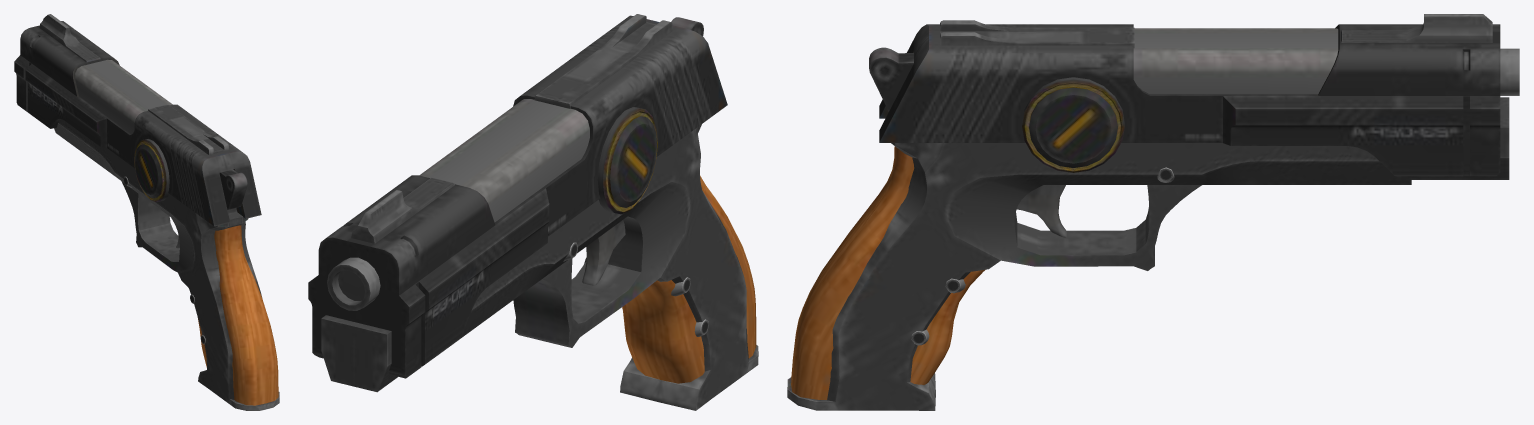
File: plasma.glb
3 views of the same model, side by side, from view 1: azimuth 30°, elevation 25°; view 2: azimuth 150°, elevation 25°; view 3: azimuth 270°, elevation 25° (orthographic). The views are drawn at different scales.
Parts seen in each view (by area): view 1: Gun_Pistol; view 2: Gun_Pistol; view 3: Gun_Pistol.
Boxes of the visible parts, bbox=[...] form: Gun_Pistol: bbox=[14, 14, 279, 410]; Gun_Pistol: bbox=[308, 14, 758, 410]; Gun_Pistol: bbox=[787, 14, 1519, 410].
Bounding box in the file's own units: 0.0371 × 0.1369 × 0.24.
1 material, 1 textured.
